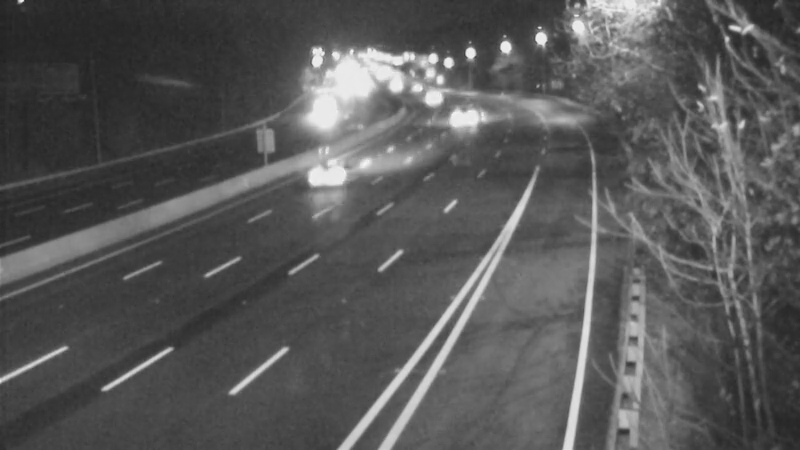vehicle: (286, 133, 366, 213), (394, 65, 444, 115), (407, 70, 457, 120), (444, 84, 494, 134)
